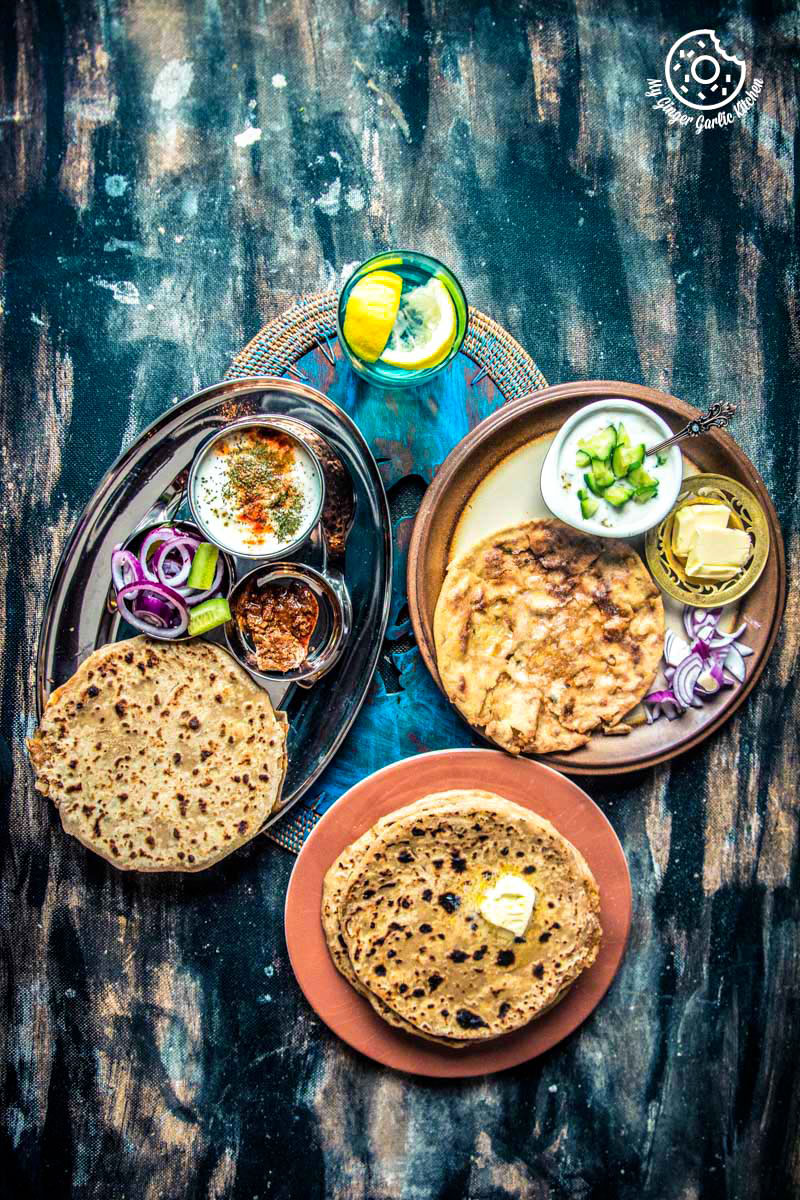aloo_paratha: (322, 791, 619, 1044), (35, 633, 297, 880), (437, 518, 670, 755)
